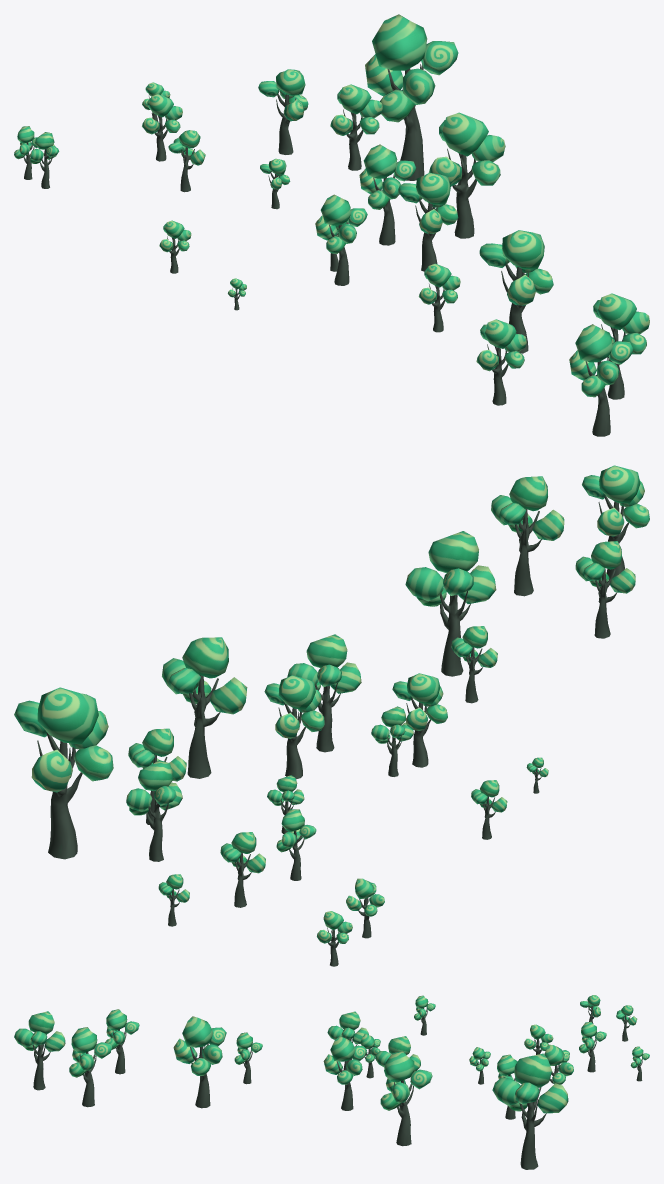
Rendered from treeA.fbx.
3 views of the same model, one above another, from view 1: azimuth 30°, elevation 25°; view 2: azimuth 150°, elevation 25°; view 3: azimuth 270°, elevation 25° (orthographic). The views are drawn at different scales.
Visible parts, largest first — view 1: treeA; view 2: treeA; view 3: treeA.
Part boxes in pixels (x1,y1,x2,y2): treeA: [14, 14, 649, 436]; treeA: [14, 465, 649, 966]; treeA: [14, 995, 649, 1169].
Size of the model in its own units: 2378 by 925 by 4881.
